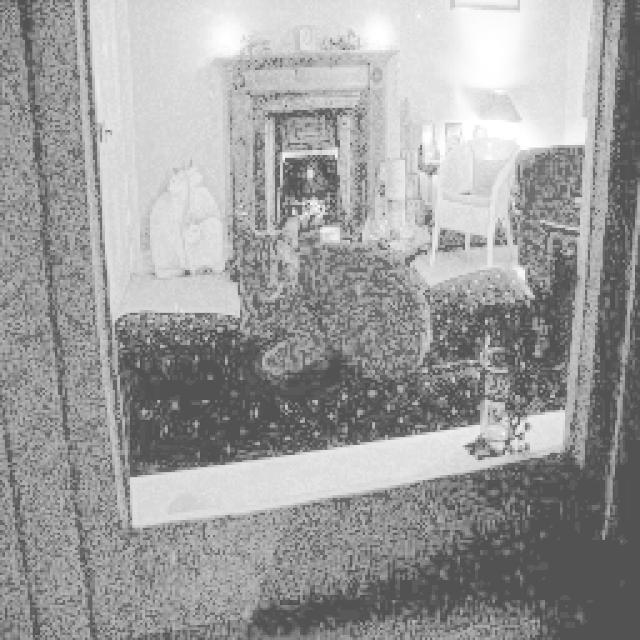cat: (234, 215, 433, 375)
